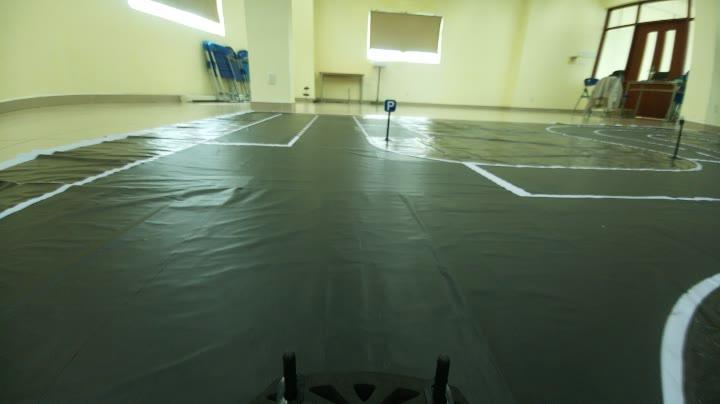parking: (378, 94, 400, 116)
